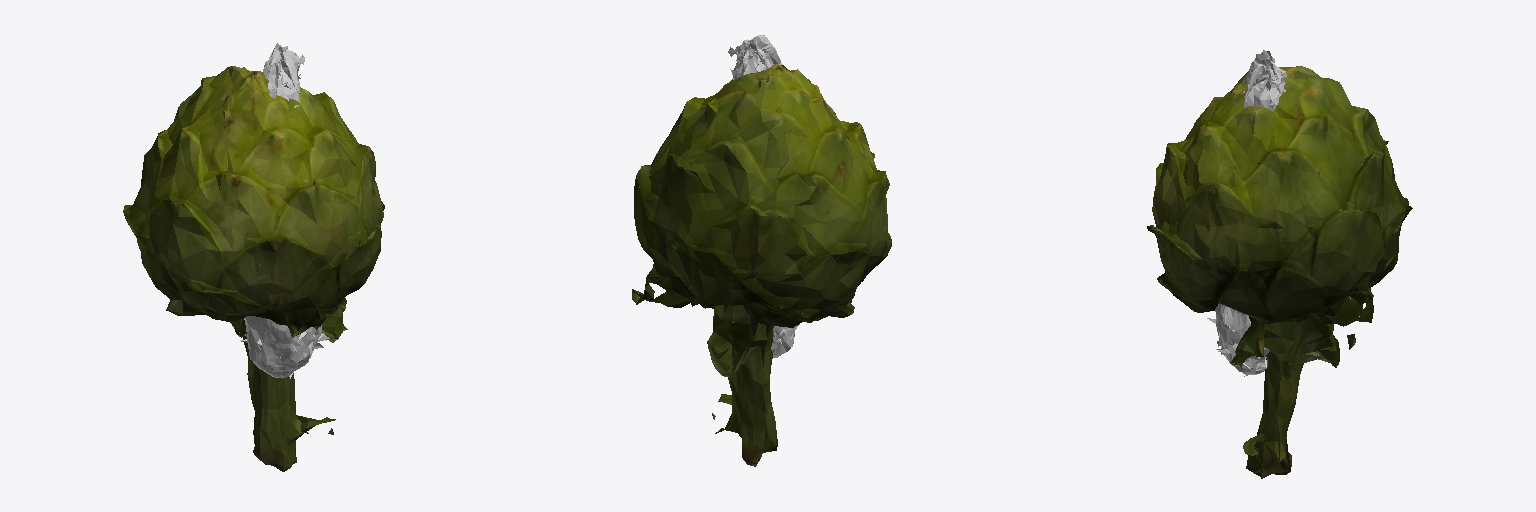
3 renders of one model, left to right at view 1: azimuth 30°, elevation 25°; view 2: azimuth 150°, elevation 25°; view 3: azimuth 270°, elevation 25°, orthographic.
Parts seen in each view (by area): view 1: Mashed_Artichoke_with_Turned_Zucchini_undefined_artichoke; view 2: Mashed_Artichoke_with_Turned_Zucchini_undefined_artichoke; view 3: Mashed_Artichoke_with_Turned_Zucchini_undefined_artichoke.
Boxes of the visible parts, x1=… form: Mashed_Artichoke_with_Turned_Zucchini_undefined_artichoke: x1=123, y1=43, x2=384, y2=471; Mashed_Artichoke_with_Turned_Zucchini_undefined_artichoke: x1=632, y1=35, x2=891, y2=466; Mashed_Artichoke_with_Turned_Zucchini_undefined_artichoke: x1=1147, y1=50, x2=1412, y2=478.
Bounding box in the file's own units: 4287 × 7909 × 4491.
Materials: 4 (1 with a texture image).